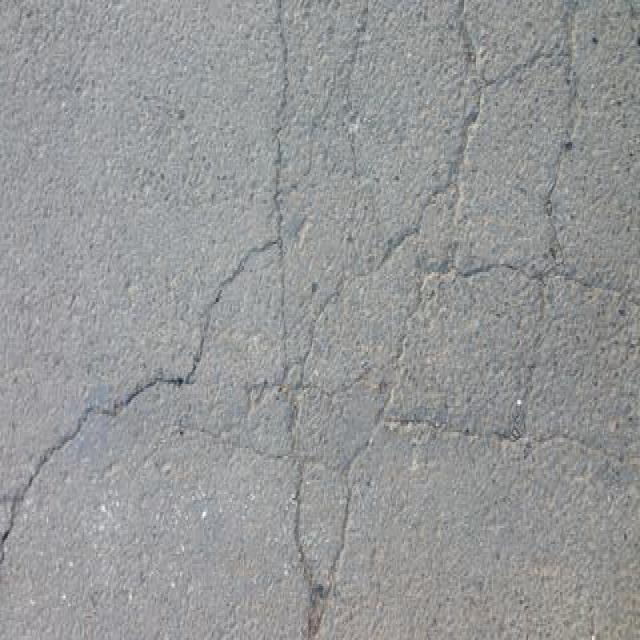GRIETA: (0, 374, 178, 565), (293, 485, 325, 639), (326, 482, 354, 591)
PIEL DE COCODRILO: (176, 0, 639, 486)
